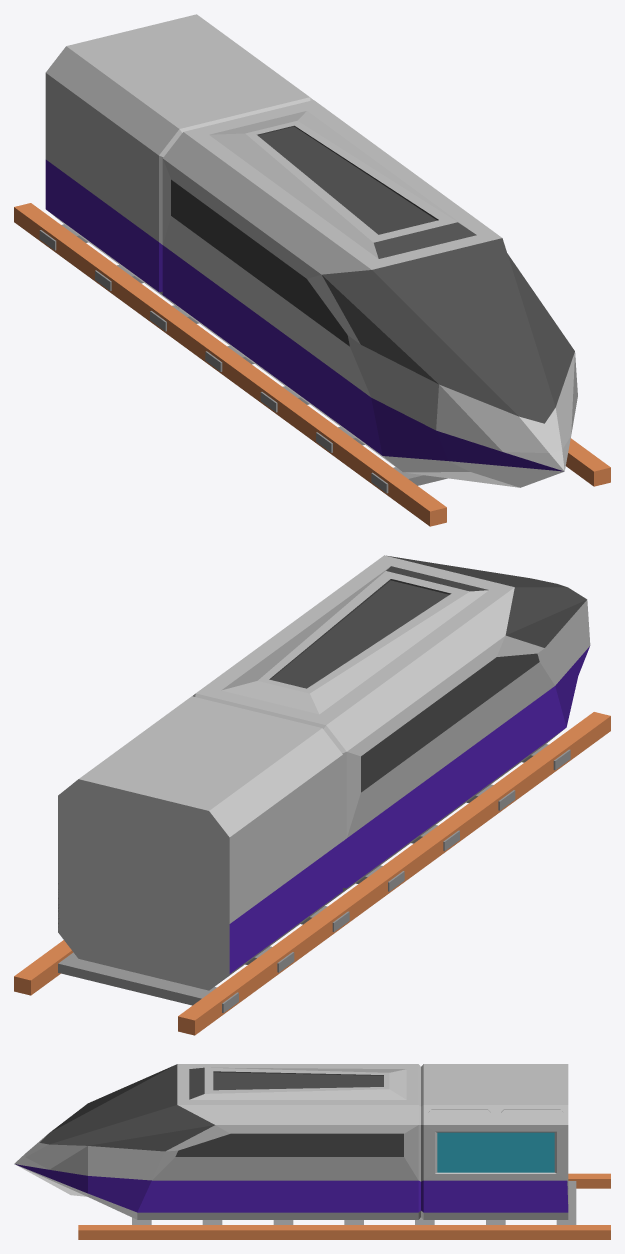
Rendered from tren.fbx.
3 renders of one model, top to bottom at view 1: azimuth 30°, elevation 25°; view 2: azimuth 150°, elevation 25°; view 3: azimuth 270°, elevation 25°, orthographic. The views are drawn at different scales.
Visible parts, largest first — view 1: tren, vagon, trenRay, vagonUstKapak; view 2: tren, vagon, trenRay, vagonUstKapak; view 3: tren, vagonUstKapak, trenRay, altKapak, vagon.
Boxes of the visible parts, bbox=[...] form: tren: bbox=[162, 100, 577, 487]; vagon: bbox=[45, 46, 312, 308]; trenRay: bbox=[14, 203, 610, 526]; vagonUstKapak: bbox=[66, 14, 309, 128]; tren: bbox=[192, 555, 590, 904]; vagon: bbox=[58, 728, 342, 990]; trenRay: bbox=[14, 712, 610, 1035]; vagonUstKapak: bbox=[58, 696, 321, 879]; tren: bbox=[14, 1064, 420, 1219]; vagonUstKapak: bbox=[423, 1064, 568, 1180]; trenRay: bbox=[78, 1173, 610, 1239]; altKapak: bbox=[423, 1180, 568, 1212]; vagon: bbox=[421, 1064, 568, 1219].
Size of the model in its own units: 216 by 224 by 941.
